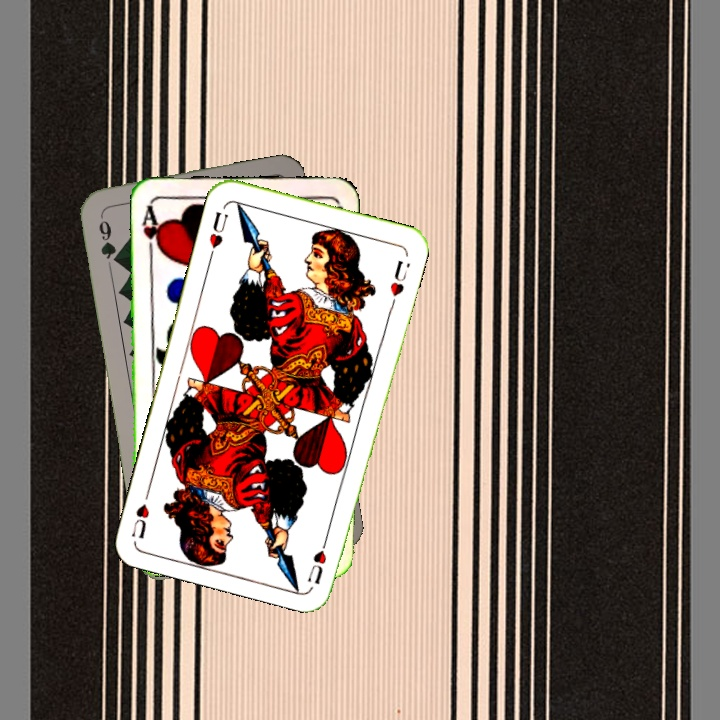G9: (94, 210, 122, 267)
HA: (138, 200, 164, 259)
HU: (304, 530, 332, 587), (205, 207, 231, 260)
